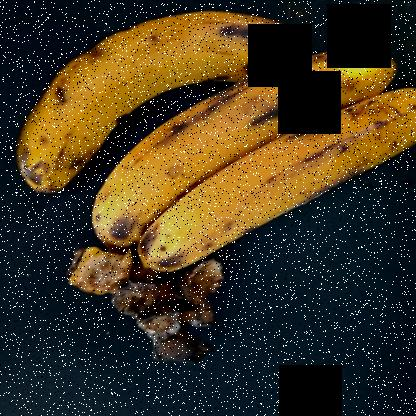overripe: (14, 1, 315, 188), (86, 53, 382, 243), (146, 88, 415, 268)
